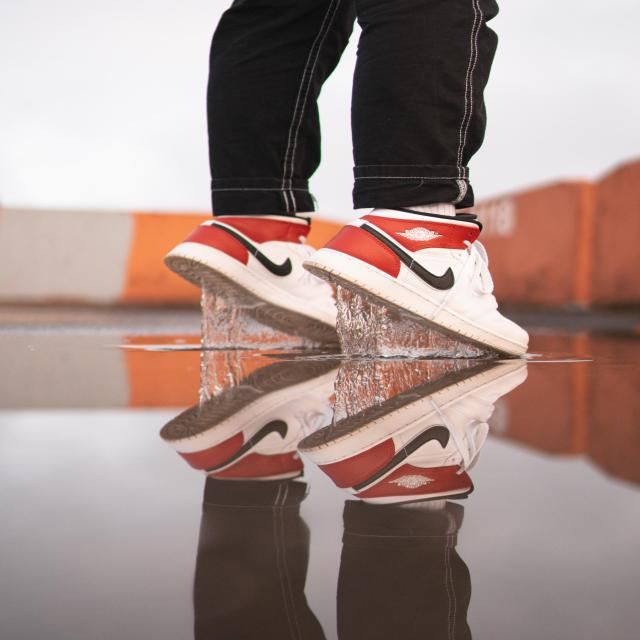shoe: (305, 207, 554, 356), (298, 358, 533, 506), (157, 356, 336, 484), (159, 212, 339, 338)
